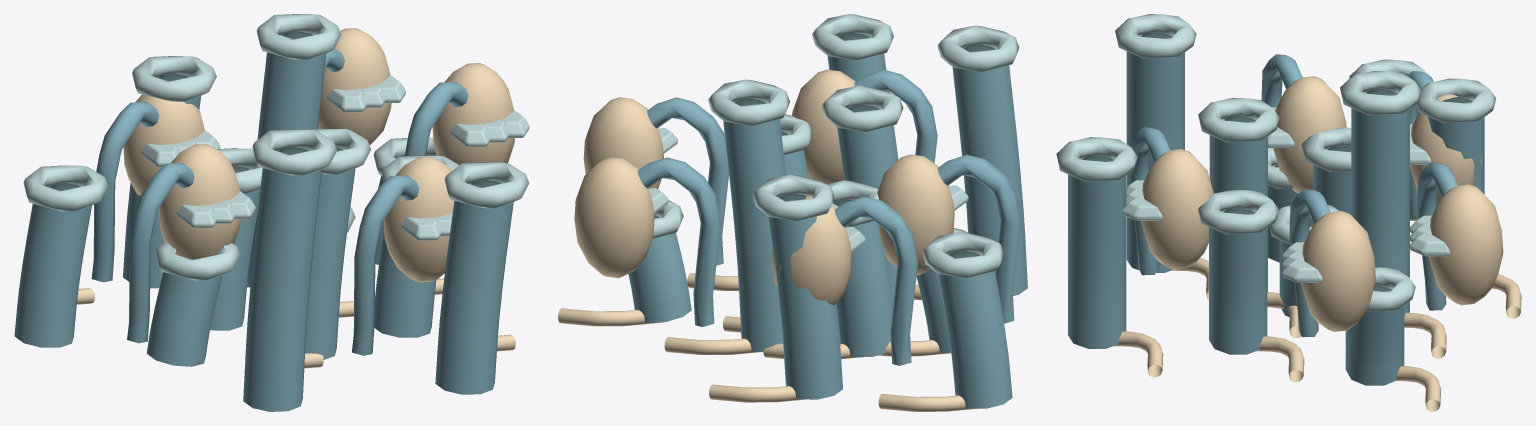
The model's file is bio_thermal_colony_08_far.glb.
3 renders of one model, left to right at view 1: azimuth 30°, elevation 25°; view 2: azimuth 150°, elevation 25°; view 3: azimuth 270°, elevation 25°, orthographic. The views are drawn at different scales.
Visible parts, largest first — view 1: Chimney biofilm.007, Chimney biofilm.010, Chimney biofilm.009, Chimney biofilm.002, Pendant spore capsule.004, Pendant spore capsule.002, Chimney biofilm.004, Pendant spore capsule, Pendant spore capsule.003, Chimney biofilm.003, Arched fruit stem.004, Arched fruit stem.002 (+21 smaller); view 2: Chimney biofilm.003, Chimney biofilm.007, Chimney biofilm.006, Pendant spore capsule.003, Chimney biofilm.009, Chimney biofilm.001, Pendant spore capsule.004, Arched fruit stem.001, Arched fruit stem.003, Pendant spore capsule, Pendant spore capsule.001, Chimney biofilm.008 (+23 smaller); view 3: Chimney biofilm.010, Chimney biofilm.003, Chimney biofilm.005, Pendant spore capsule.003, Pendant spore capsule, Pendant spore capsule.002, Chimney biofilm.007, Pendant spore capsule.004, Chimney biofilm.008, Chimney biofilm.002, Open vent rim.010, Open vent rim.007 (+28 smaller).
Boxes of the visible parts, x1=… form: Chimney biofilm.007: x1=243, y1=168, x2=321, y2=411; Chimney biofilm.010: x1=435, y1=200, x2=513, y2=394; Chimney biofilm.009: x1=14, y1=204, x2=91, y2=347; Chimney biofilm.002: x1=305, y1=168, x2=355, y2=359; Pendant spore capsule.004: x1=158, y1=144, x2=241, y2=258; Pendant spore capsule.002: x1=383, y1=156, x2=454, y2=282; Chimney biofilm.004: x1=146, y1=272, x2=222, y2=366; Pendant spore capsule: x1=432, y1=63, x2=514, y2=164; Pendant spore capsule.003: x1=318, y1=28, x2=391, y2=144; Chimney biofilm.003: x1=247, y1=52, x2=325, y2=287; Arched fruit stem.004: x1=127, y1=163, x2=194, y2=343; Arched fruit stem.002: x1=352, y1=175, x2=419, y2=355; Chimney biofilm.003: x1=723, y1=102, x2=785, y2=351; Chimney biofilm.007: x1=952, y1=48, x2=1027, y2=295; Chimney biofilm.006: x1=768, y1=197, x2=842, y2=399; Pendant spore capsule.003: x1=574, y1=157, x2=654, y2=278; Chimney biofilm.009: x1=938, y1=251, x2=1012, y2=408; Chimney biofilm.001: x1=836, y1=221, x2=893, y2=357; Pendant spore capsule.004: x1=877, y1=154, x2=954, y2=275; Arched fruit stem.001: x1=835, y1=196, x2=917, y2=365; Arched fruit stem.003: x1=638, y1=157, x2=720, y2=326; Pendant spore capsule: x1=583, y1=97, x2=663, y2=188; Pendant spore capsule.001: x1=771, y1=196, x2=851, y2=305; Chimney biofilm.008: x1=628, y1=233, x2=691, y2=322; Chimney biofilm.010: x1=1068, y1=159, x2=1126, y2=348; Chimney biofilm.003: x1=1351, y1=93, x2=1409, y2=316; Chimney biofilm.005: x1=1209, y1=212, x2=1267, y2=354; Pendant spore capsule.003: x1=1428, y1=184, x2=1503, y2=305; Pendant spore capsule: x1=1301, y1=211, x2=1375, y2=331; Pendant spore capsule.002: x1=1141, y1=149, x2=1213, y2=269; Chimney biofilm.007: x1=1126, y1=36, x2=1184, y2=272; Pendant spore capsule.004: x1=1273, y1=76, x2=1346, y2=193; Chimney biofilm.008: x1=1345, y1=289, x2=1404, y2=385; Chimney biofilm.002: x1=1209, y1=120, x2=1267, y2=291; Open vent rim.010: x1=1056, y1=137, x2=1137, y2=181; Open vent rim.007: x1=1115, y1=14, x2=1196, y2=58.
Size of the model in its own units: 1.76 by 0.9503 by 1.59.
